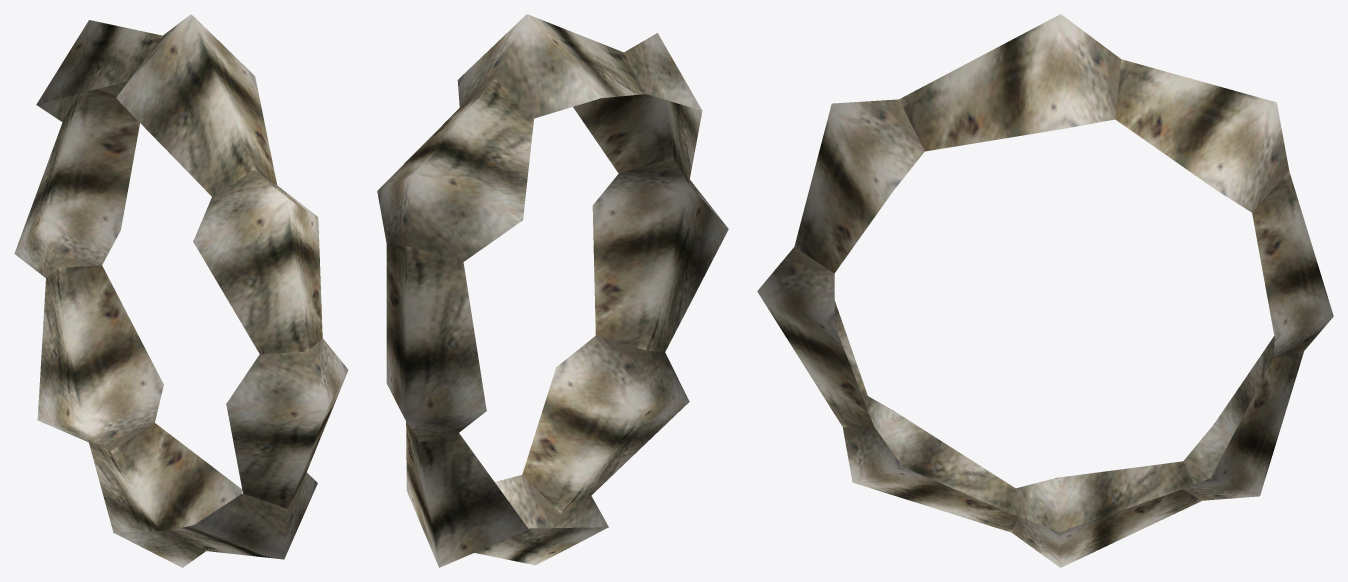
The model's file is ring_primitive_s01_l1.fbx.
The picture shows the model from 3 angles, left to right: view 1: azimuth 30°, elevation 25°; view 2: azimuth 150°, elevation 25°; view 3: azimuth 270°, elevation 25°; orthographic projection.
Parts seen in each view (by area): view 1: mesh_node; view 2: mesh_node; view 3: mesh_node.
Boxes of the visible parts, x1,y1,x2,y2 form: mesh_node: (14,14,348,567); mesh_node: (377,14,728,567); mesh_node: (757,14,1333,567).
Bounding box in the file's own units: 0.0183 × 0.0602 × 0.0564.
1 material, 1 textured.
